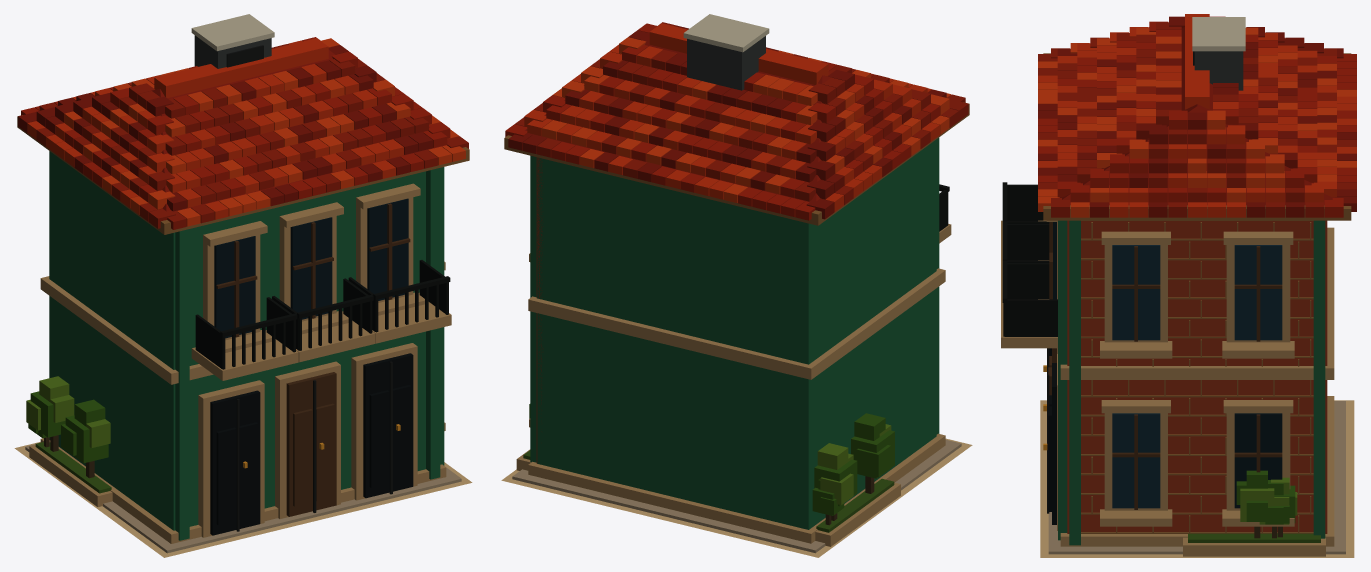
Rendered from SM_Mapa_004.fbx.
The picture shows the model from 3 angles, left to right: view 1: azimuth 30°, elevation 25°; view 2: azimuth 150°, elevation 25°; view 3: azimuth 270°, elevation 25°; orthographic projection. The views are drawn at different scales.
Visible parts, largest first — view 1: SM_Mapa_004; view 2: SM_Mapa_004; view 3: SM_Mapa_004.
Part boxes in pixels (x1=…): SM_Mapa_004: x1=14, y1=14, x2=472, y2=557; SM_Mapa_004: x1=501, y1=14, x2=972, y2=557; SM_Mapa_004: x1=1001, y1=14, x2=1356, y2=557.
Size of the model in its own units: 8 by 7.32 by 10.16.
